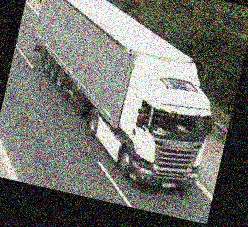truck: (9, 0, 234, 197)
